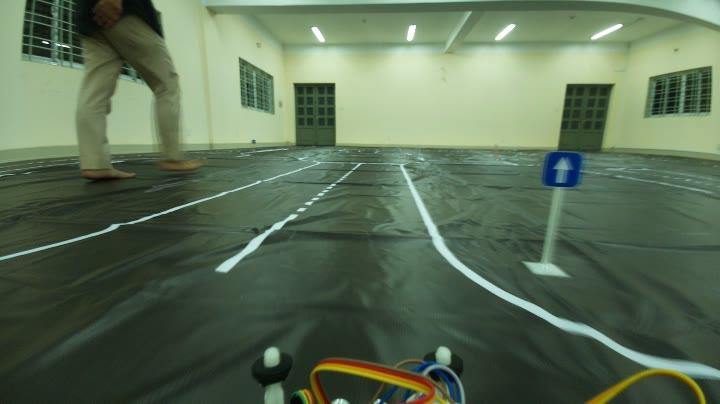onewayroad: (538, 147, 580, 193)
